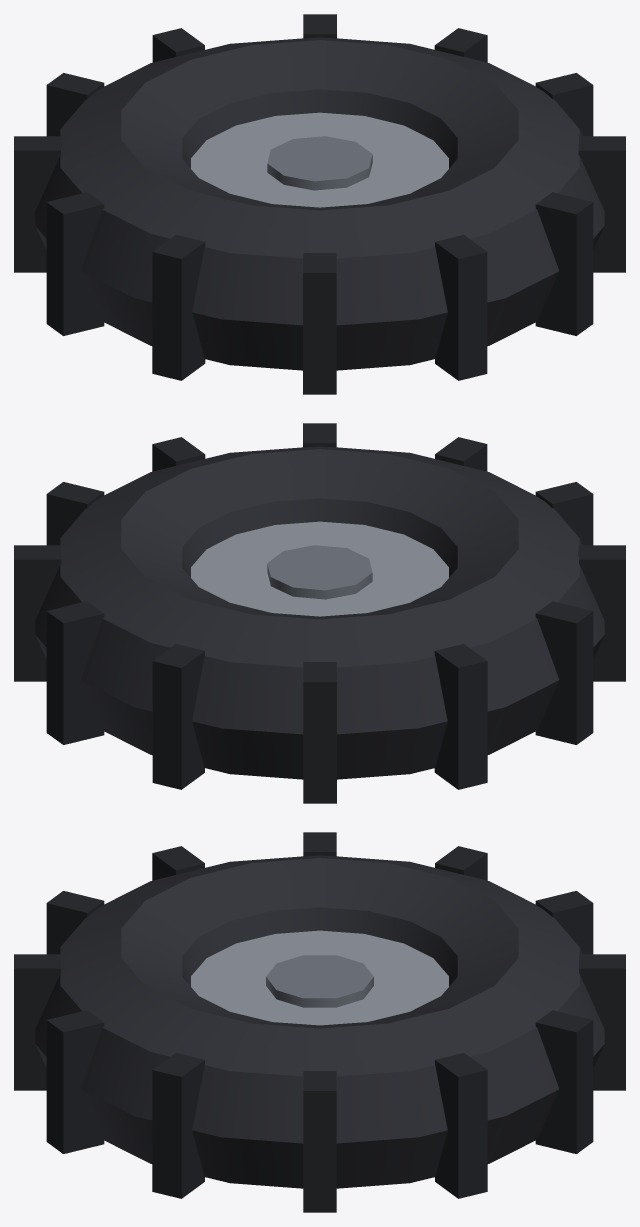
File: debris_tire.glb
3 renders of one model, top to bottom at view 1: azimuth 30°, elevation 25°; view 2: azimuth 150°, elevation 25°; view 3: azimuth 270°, elevation 25°, orthographic.
Visible parts, largest first — view 1: debris_tire_mesh; view 2: debris_tire_mesh; view 3: debris_tire_mesh.
Boxes of the visible parts, box(x1,y1,x2,y2) form: debris_tire_mesh: box(14, 14, 625, 394); debris_tire_mesh: box(14, 423, 625, 803); debris_tire_mesh: box(14, 832, 625, 1212).
Size of the model in its own units: 0.9102 by 0.26 by 0.9102.
Materials: 1 (1 with a texture image).
